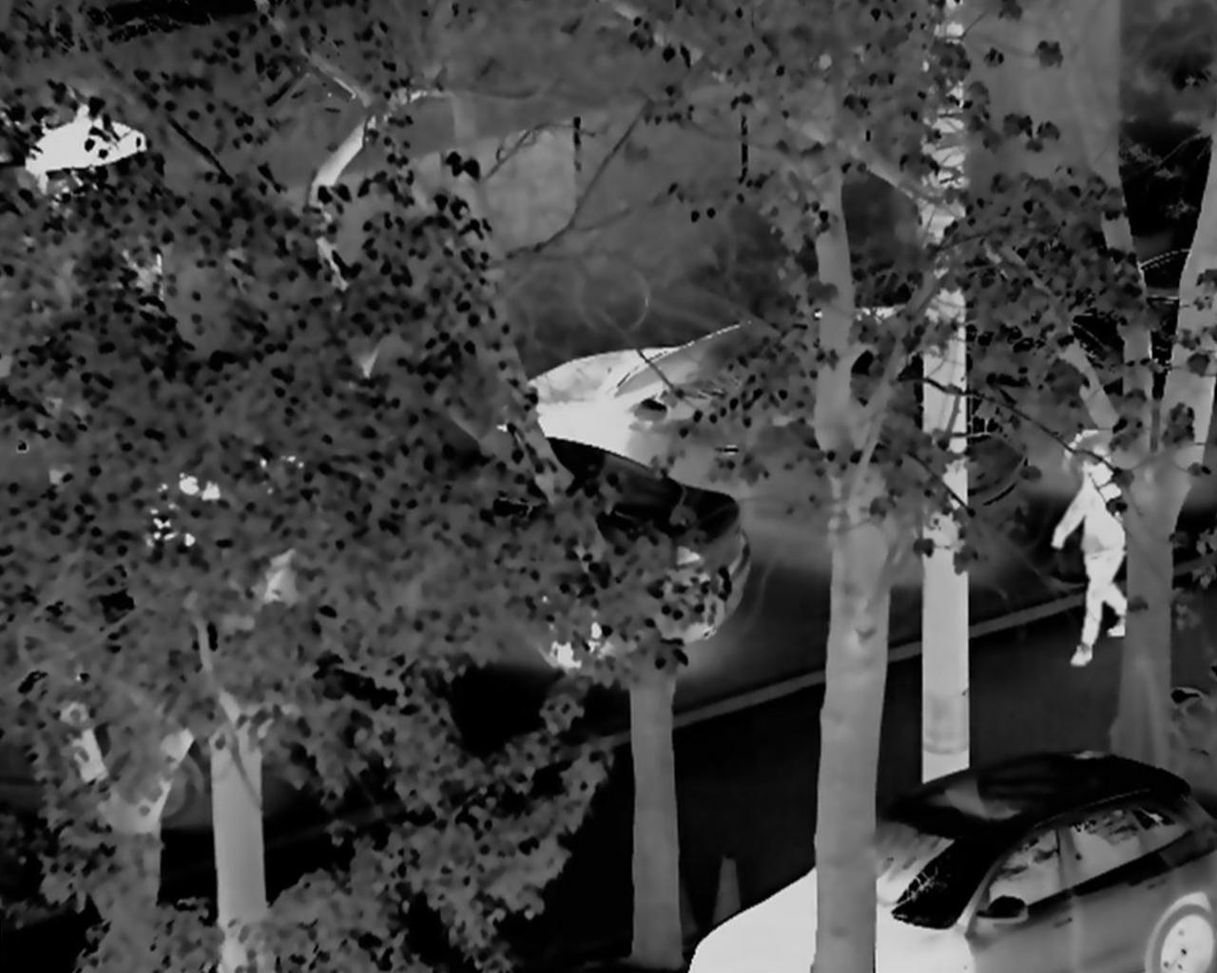person: (1048, 444, 1131, 665)
